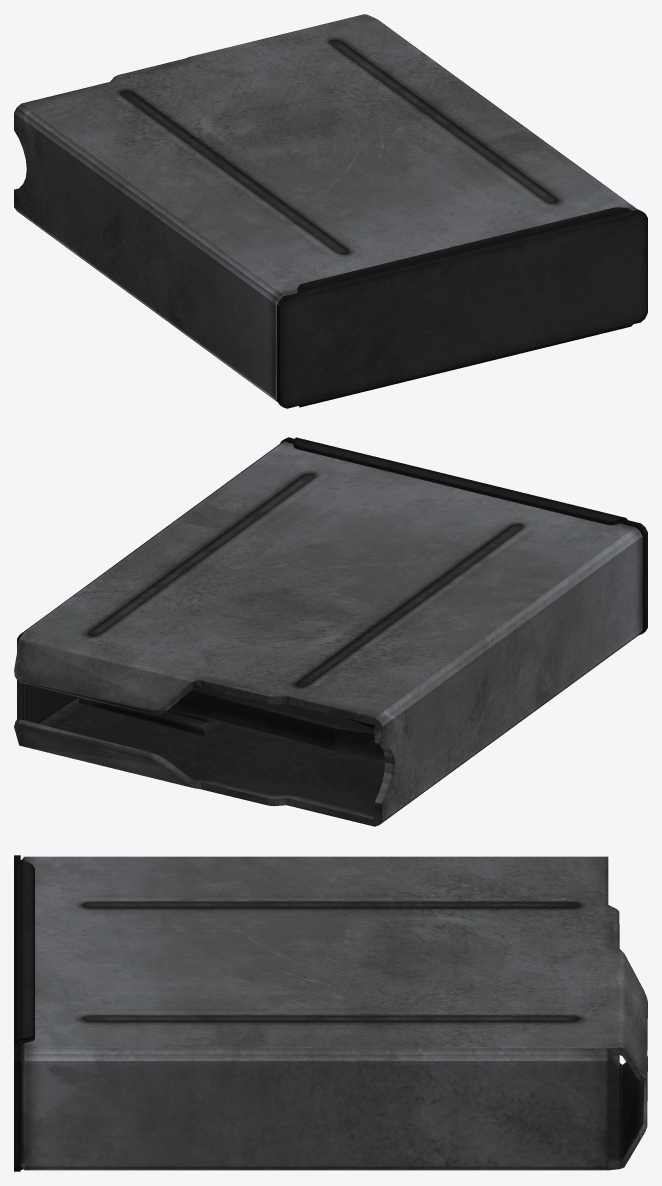
File: Mag308ExtSm_Ground.fbx
3 renders of one model, top to bottom at view 1: azimuth 30°, elevation 25°; view 2: azimuth 150°, elevation 25°; view 3: azimuth 270°, elevation 25°, orthographic. The views are drawn at different scales.
Visible parts, largest first — view 1: Mag308ExtSm; view 2: Mag308ExtSm; view 3: Mag308ExtSm.
Boxes of the visible parts, x1,y1,x2,y2 form: Mag308ExtSm: (14,14,647,408); Mag308ExtSm: (14,437,647,826); Mag308ExtSm: (14,855,647,1171).
Size of the model in its own units: 0.0496 by 0.0152 by 0.0664.
